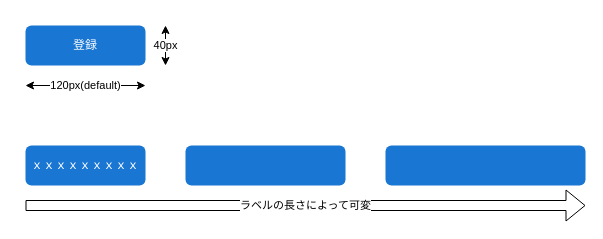
The diagram is 603 pixels wide and 239 high, and some of its shapes have lost their labels. The shapes that lost their labels are listed below. From the top down, each one's box as (x1, y1, x2, y2) in pixels, then its label:
(185, 145, 345, 185): ｘｘｘｘｘｘｘｘｘｘｘｘ
(385, 145, 585, 185): ｘｘｘｘｘｘｘｘｘｘｘｘｘｘｘｘ
